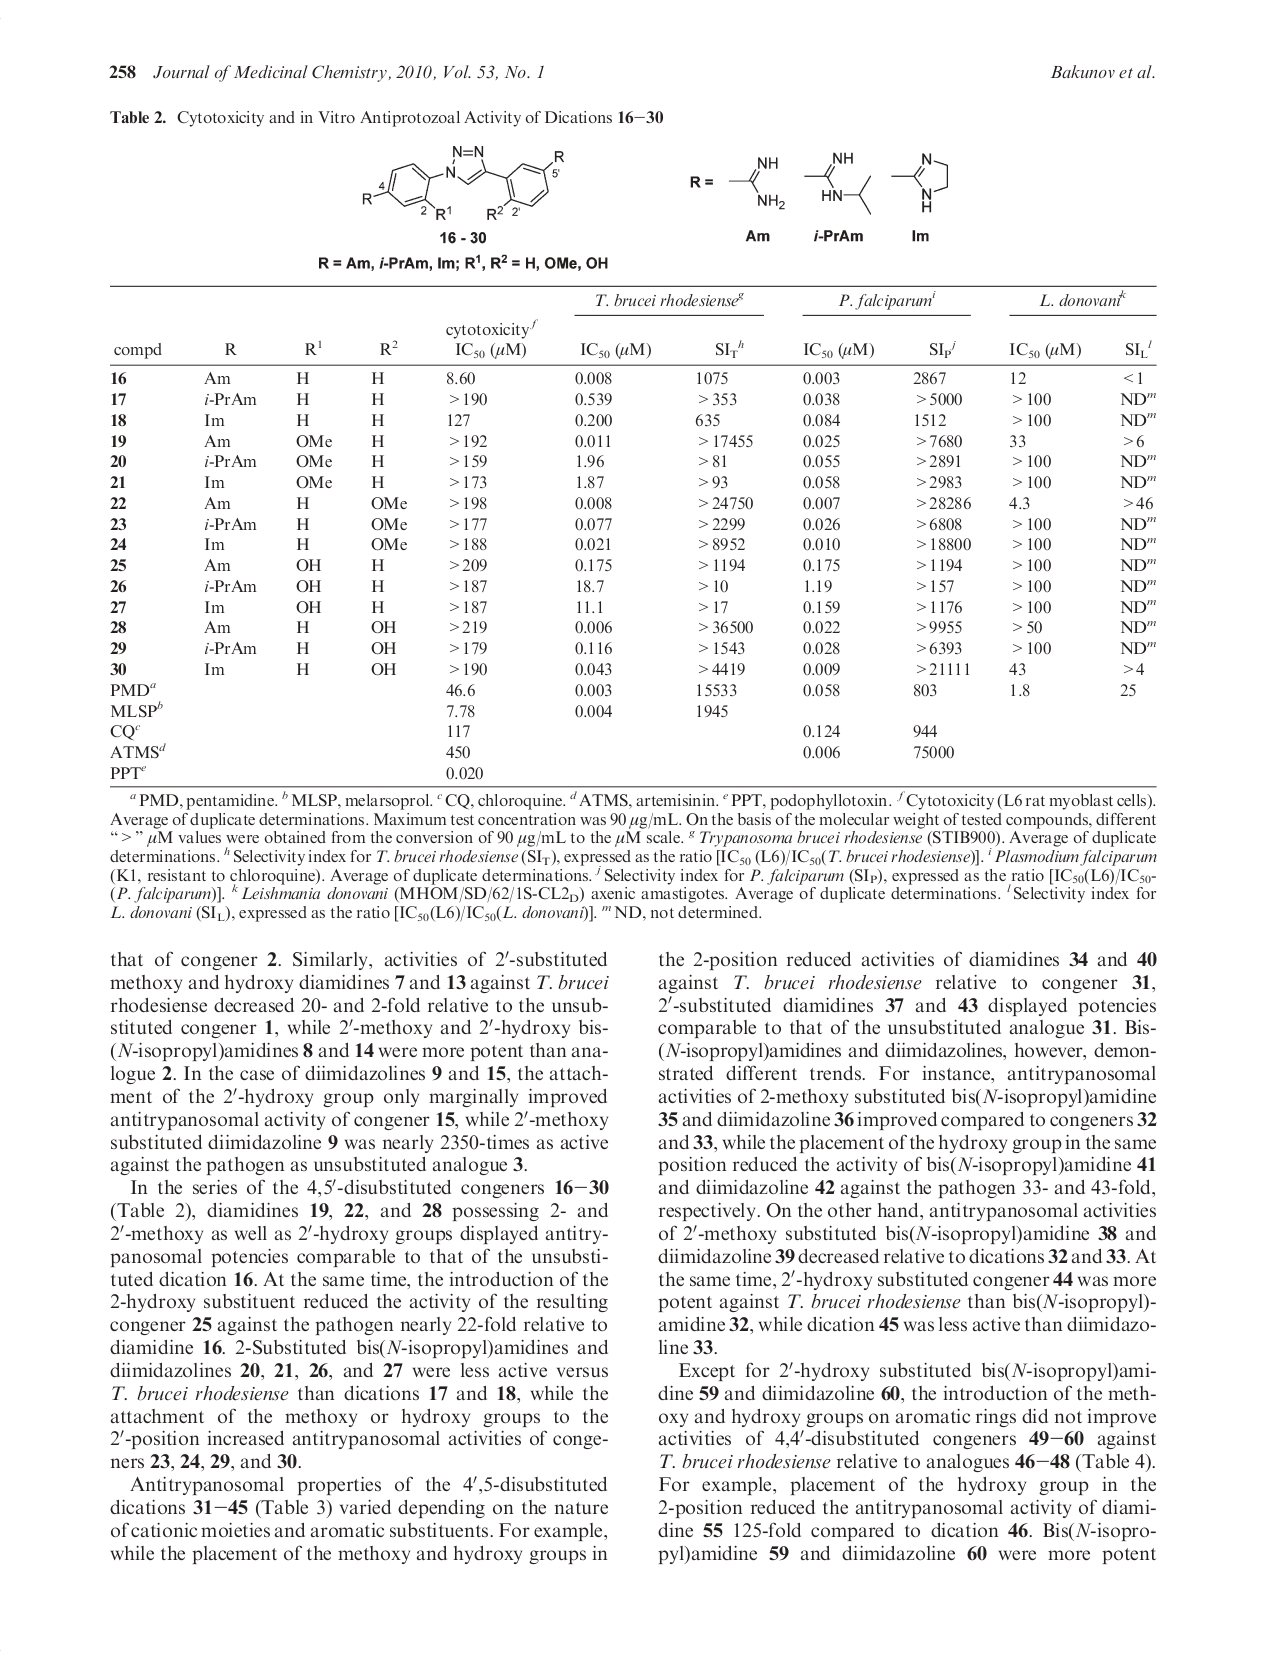exist_molecular: (688, 149, 951, 217), (360, 145, 565, 223)
